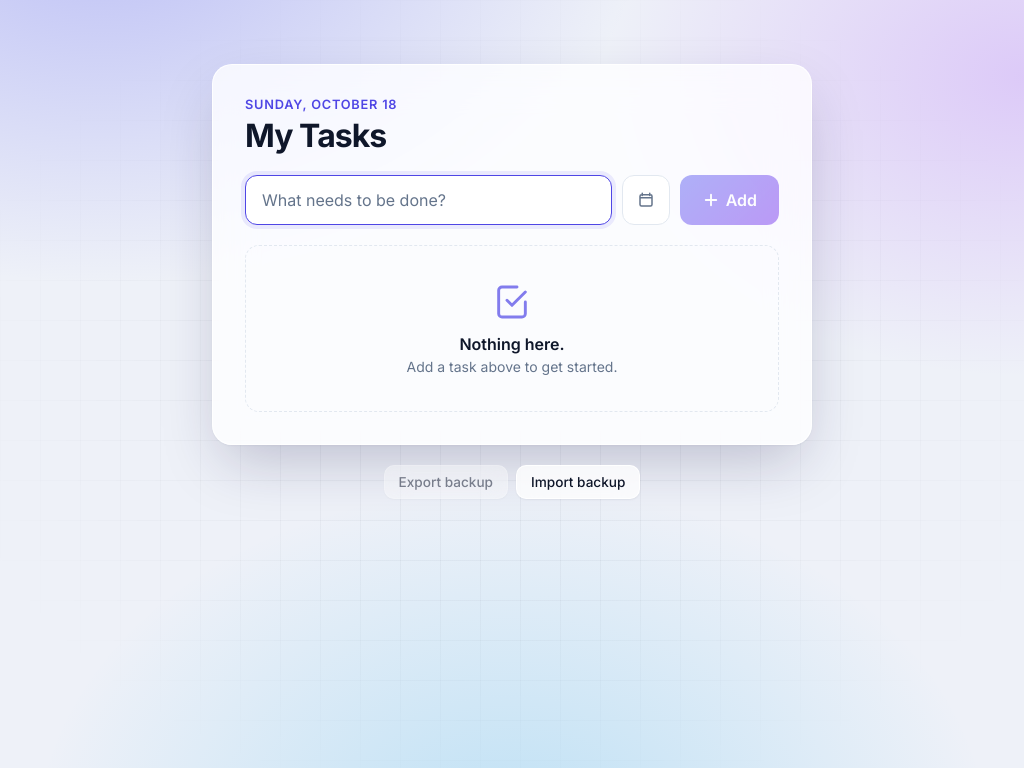
Test: App › edits a task on double-click
In the field named "New task": (428, 200) [245,175,612,225], type "Old text"
Then press Enter
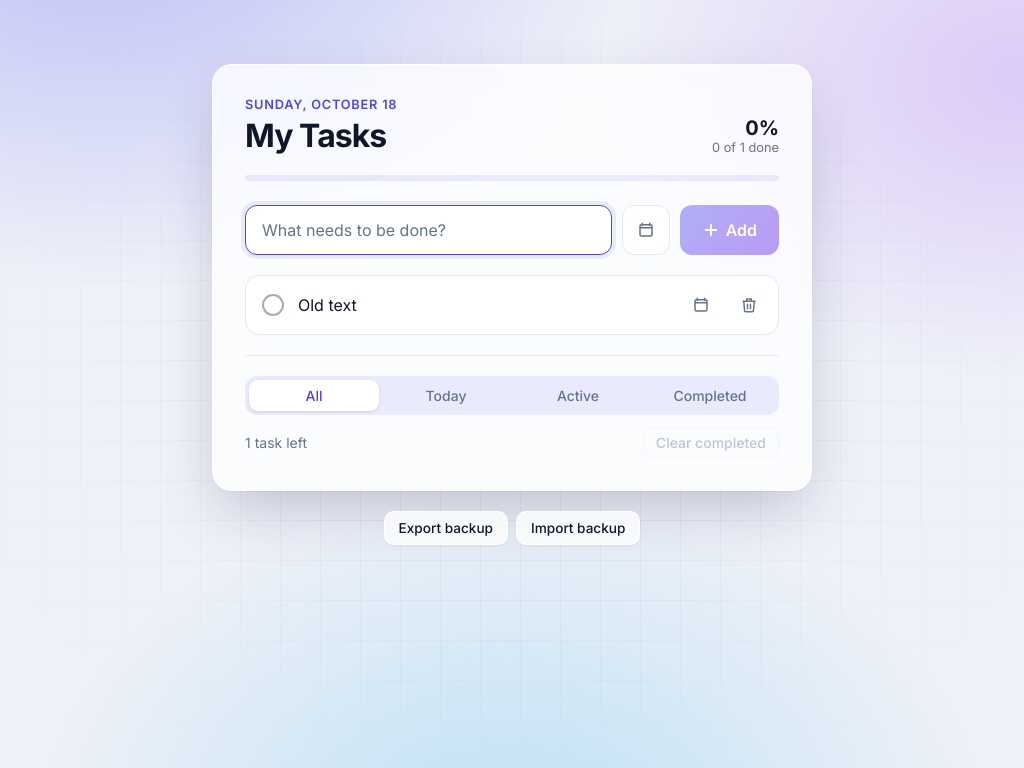
Double-click the text "Old text": (327, 305) [298,295,357,315]
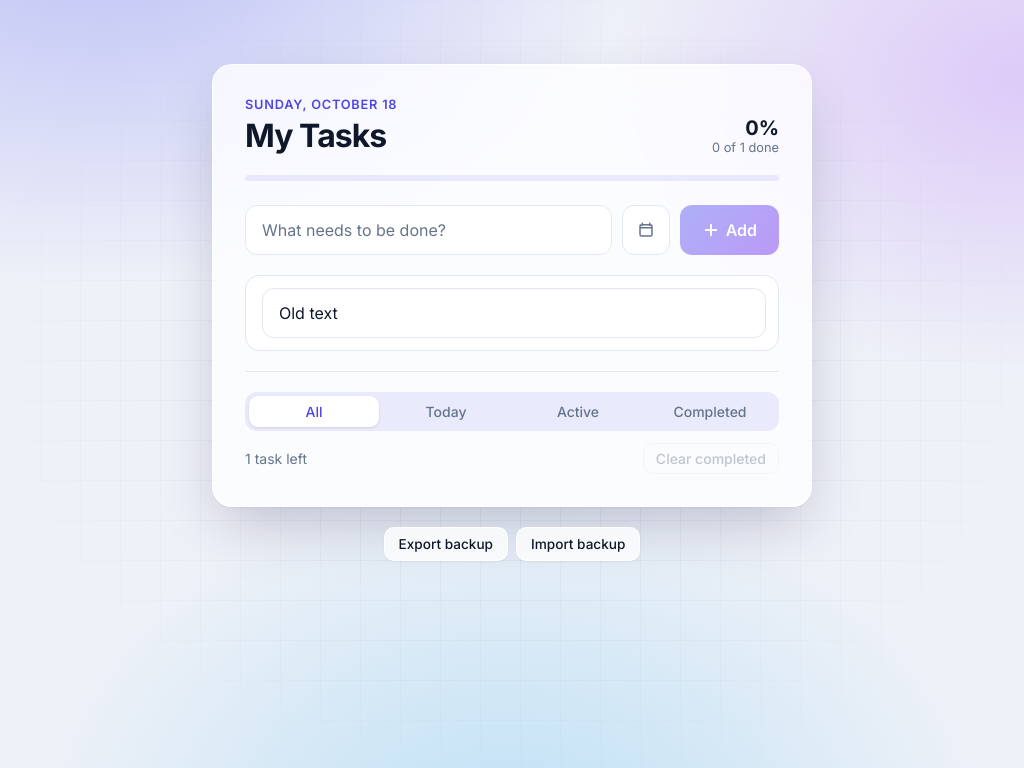
Replace the text in the field named "Edit task" with "New text": (514, 313) [262,288,766,338]
Then press Enter
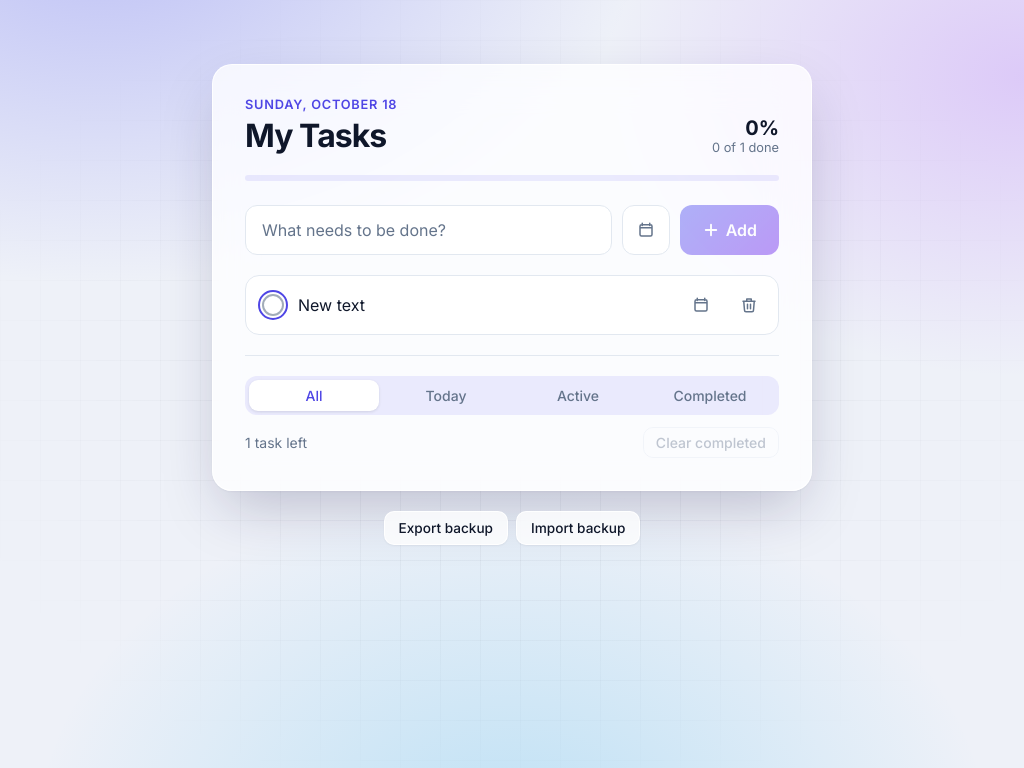
Now the text "New text" is shown, box [298,295,365,315]
